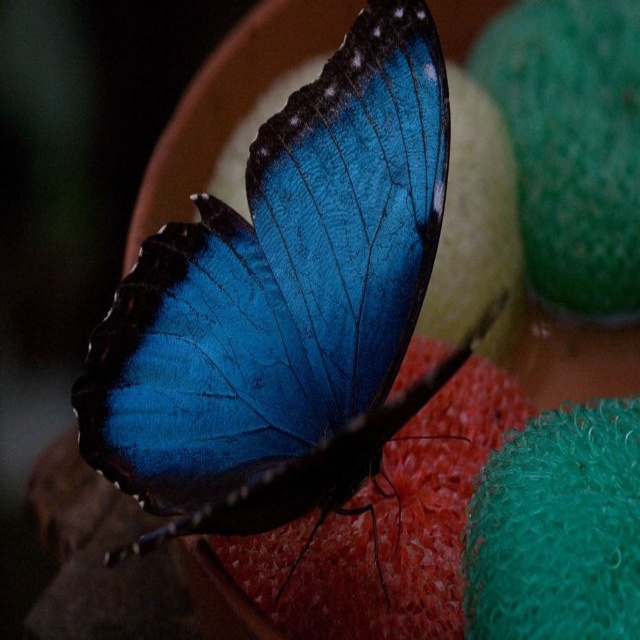Butterfly: (66, 37, 487, 591)
